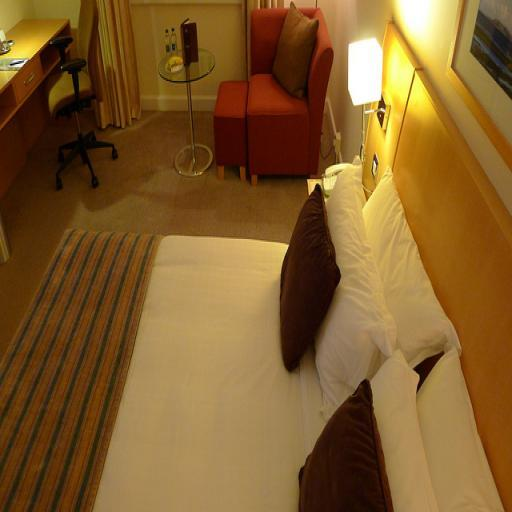bed: (5, 145, 512, 512)
